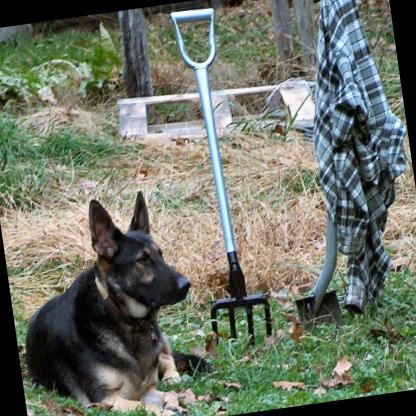German_shepherd: (4, 182, 217, 416)
